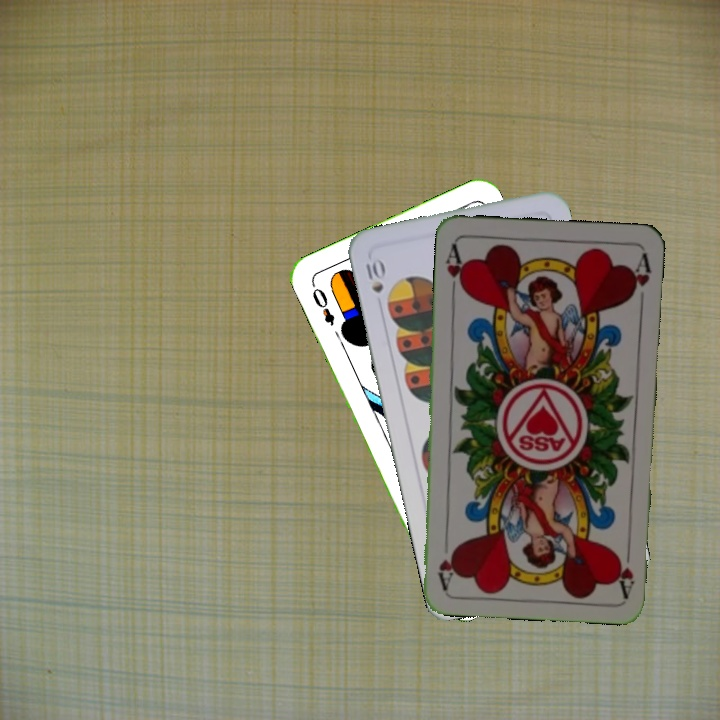EO: (307, 279, 338, 328)
HA: (441, 239, 469, 299), (611, 539, 637, 598)
S10: (362, 254, 386, 296)
